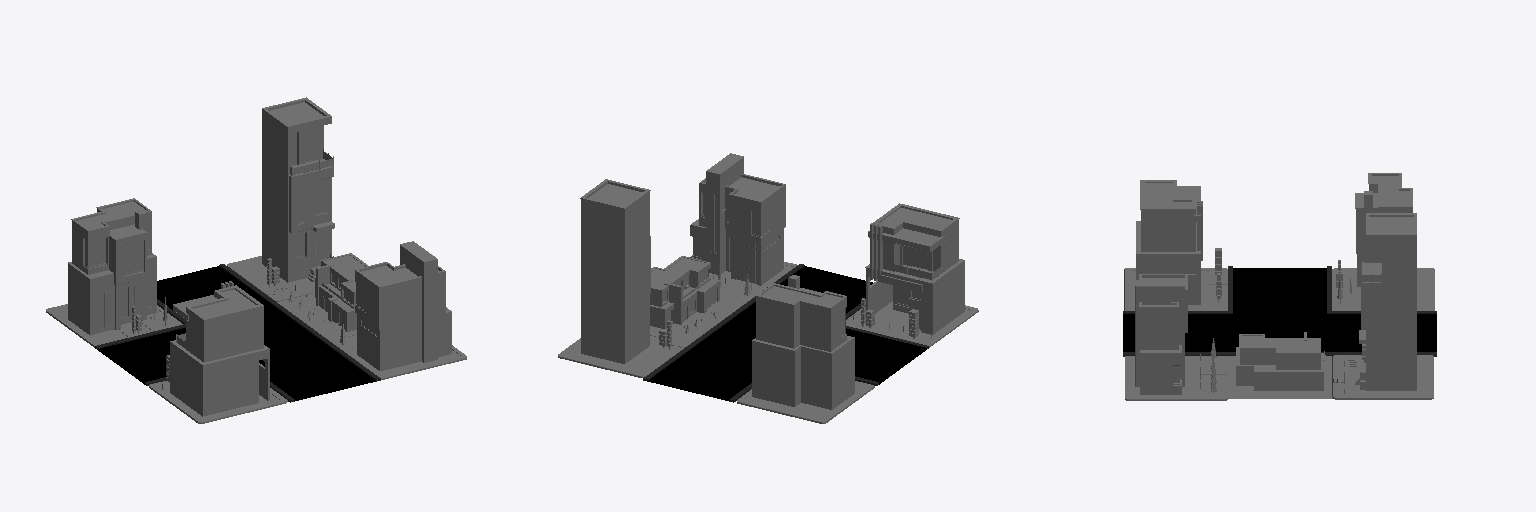
The model's file is road11.obj.
3 renders of one model, left to right at view 1: azimuth 30°, elevation 25°; view 2: azimuth 150°, elevation 25°; view 3: azimuth 270°, elevation 25°, orthographic.
Visible parts, largest first — view 1: T_Intersection, Box437_Mesh_164, Box345_Mesh_313, Box335_Mesh_309, Box524_Mesh_122, Line017_Mesh_194, Box522_Mesh_120, Box523_Mesh_121, Object093_Mesh_304, Object141_Mesh_171, Object122_Mesh_199, Object127_Mesh_200 (+19 smaller); view 2: Box437_Mesh_164, T_Intersection, Line017_Mesh_194, Box422_Mesh_187, Box345_Mesh_313, Box523_Mesh_121, Box524_Mesh_122, Box335_Mesh_309, Rectangle007_Mesh_175, Object100_Mesh_311, Object174_Mesh_127, Object122_Mesh_199 (+17 smaller); view 3: T_Intersection, Box437_Mesh_164, Box335_Mesh_309, Line013_Mesh_260, Box523_Mesh_121, Box345_Mesh_313, Box522_Mesh_120, Object276_Mesh_119, Rectangle007_Mesh_175, Box413_Mesh_272, Object122_Mesh_199, Line022_Mesh_129 (+11 smaller).
Part boxes in pixels (x1,y1,x2,y2): T_Intersection: (95,264,380,402); Box437_Mesh_164: (262,110,331,282); Box345_Mesh_313: (170,340,269,416); Box335_Mesh_309: (186,292,263,362); Box524_Mesh_122: (355,270,445,329); Line017_Mesh_194: (68,253,156,335); Box522_Mesh_120: (380,307,451,370); Box523_Mesh_121: (400,241,437,362); Object093_Mesh_304: (214,361,258,413); Object141_Mesh_171: (290,128,332,257); Object122_Mesh_199: (71,198,151,240); Object127_Mesh_200: (85,222,151,316); Box437_Mesh_164: (581,192,649,363); T_Intersection: (643,264,928,402); Line017_Mesh_194: (752,336,854,409); Box422_Mesh_187: (756,297,846,351); Box345_Mesh_313: (865,259,964,334); Box523_Mesh_121: (706,153,743,274); Box524_Mesh_122: (729,185,785,244); Box335_Mesh_309: (883,220,958,272); Rectangle007_Mesh_175: (558,329,693,377); Object100_Mesh_311: (873,203,959,231); Object174_Mesh_127: (731,228,783,285); Object122_Mesh_199: (756,283,846,308); T_Intersection: (1123,266,1436,356); Box437_Mesh_164: (1366,236,1416,390); Box335_Mesh_309: (1141,210,1195,251); Line013_Mesh_260: (1236,347,1323,390); Box523_Mesh_121: (1135,280,1184,386); Box345_Mesh_313: (1136,221,1200,304); Box522_Mesh_120: (1140,345,1181,394); Object276_Mesh_119: (1139,307,1178,349); Rectangle007_Mesh_175: (1332,355,1433,399); Box413_Mesh_272: (1240,348,1320,369); Object122_Mesh_199: (1355,173,1412,208); Line022_Mesh_129: (1125,356,1227,400).
Size of the model in its own units: 19.99 by 11.22 by 20.13.